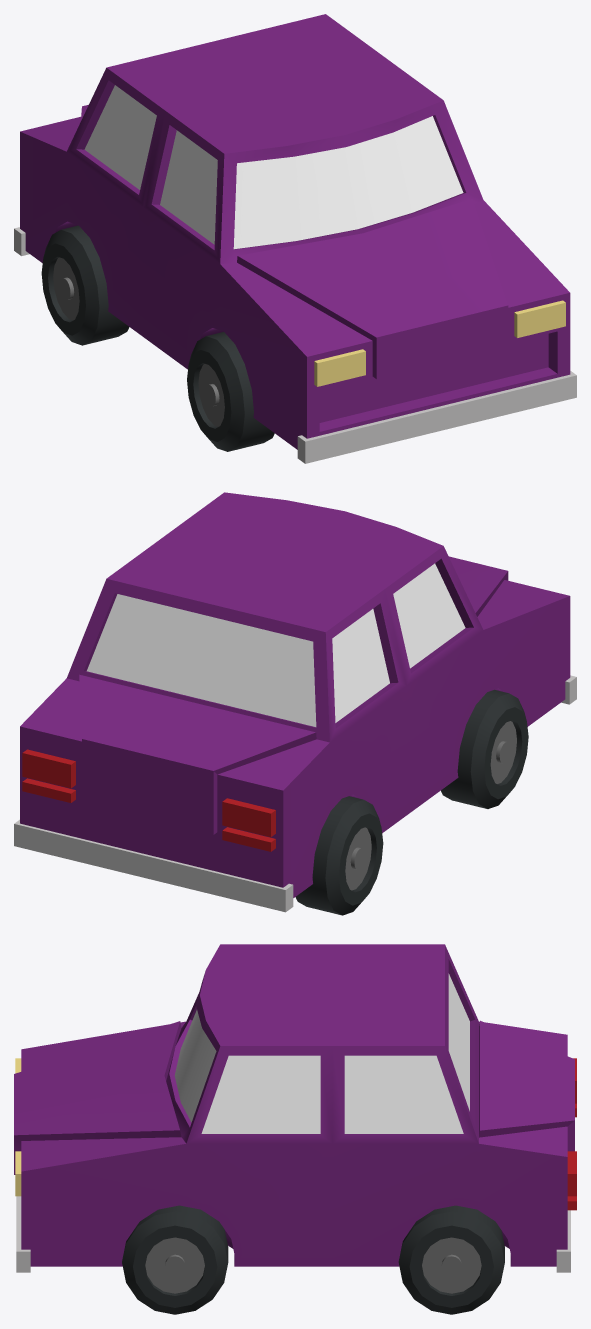
Rendered from obj_car2_1.fbx.
3 views of the same model, one above another, from view 1: azimuth 30°, elevation 25°; view 2: azimuth 150°, elevation 25°; view 3: azimuth 270°, elevation 25° (orthographic). The views are drawn at different scales.
Visible parts, largest first — view 1: obj_car2_1; view 2: obj_car2_1; view 3: obj_car2_1.
Part boxes in pixels (x1=…): obj_car2_1: x1=14, y1=14, x2=576, y2=463; obj_car2_1: x1=14, y1=492, x2=576, y2=915; obj_car2_1: x1=14, y1=944, x2=576, y2=1314.
Size of the model in its own units: 1.38 by 1.21 by 2.42.
2 materials, 2 textured.
